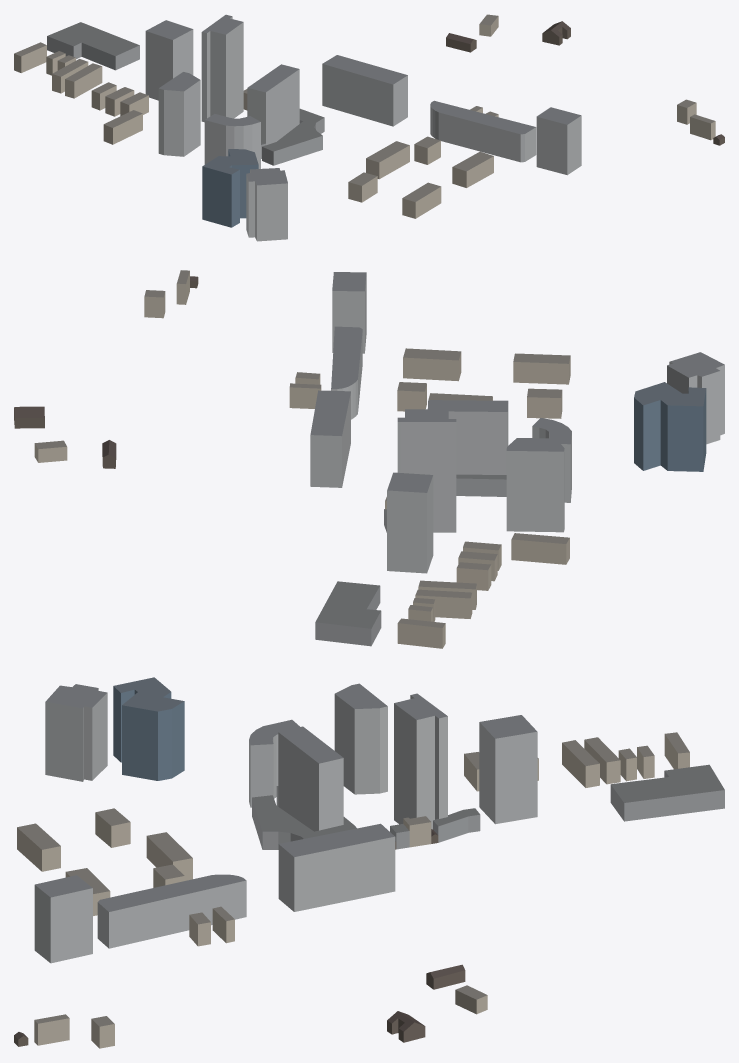
File: tile_5_6.glb
3 views of the same model, one above another, from view 1: azimuth 30°, elevation 25°; view 2: azimuth 150°, elevation 25°; view 3: azimuth 270°, elevation 25° (orthographic). The views are drawn at different scales.
Parts seen in each view (by area): view 1: HP-w505641125, HP-w505659387, HP-w640647899, HP-w505643417, HP-w293400218, HP-w293400220, HP-w505643416, HP-w447124044, HP-w505633437, HP-w505649213, HP-w293400221, HP-w505649243 (+16 smaller); view 2: HP-w505643417, HP-w293400218, HP-w640647899, HP-w447124044, HP-w293400220, HP-w505641125, HP-w505649213, HP-w505643416, HP-w505659387, HP-w505633437, HP-w1058569009, HP-w1058569008 (+13 smaller); view 3: HP-w505641125, HP-w505659387, HP-w505643417, HP-w640647899, HP-w447124044, HP-w293400220, HP-w505643416, HP-w293400218, HP-w505633437, HP-w505649213, HP-w505649243, HP-w293400221 (+16 smaller).
Part boxes in pixels (box(x1,y1,x2,y2)): HP-w505641125: box(322, 55, 407, 126); HP-w505659387: box(430, 100, 536, 162); HP-w640647899: box(201, 14, 243, 122); HP-w505643417: box(202, 149, 258, 227); HP-w293400218: box(158, 72, 200, 156); HP-w293400220: box(247, 64, 299, 145); HP-w505643416: box(246, 168, 287, 241); HP-w447124044: box(145, 20, 193, 100); HP-w505633437: box(536, 107, 581, 175); HP-w505649213: box(47, 22, 139, 70); HP-w293400221: box(204, 114, 260, 168); HP-w505649243: box(261, 108, 324, 165); HP-w505643417: box(634, 382, 706, 471); HP-w293400218: box(506, 438, 564, 532); HP-w640647899: box(397, 409, 456, 532); HP-w447124044: box(387, 472, 433, 573); HP-w293400220: box(427, 400, 508, 474); HP-w505641125: box(310, 390, 350, 487); HP-w505649213: box(315, 581, 381, 646); HP-w505643416: box(667, 352, 724, 444); HP-w505659387: box(331, 326, 362, 419); HP-w505633437: box(332, 272, 366, 353); HP-w1058569009: box(403, 348, 461, 381); HP-w1058569008: box(513, 353, 570, 384); HP-w505641125: box(278, 823, 395, 911); HP-w505659387: box(97, 874, 246, 948); HP-w505643417: box(113, 677, 184, 780); HP-w640647899: box(394, 693, 447, 829); HP-w447124044: box(479, 715, 537, 824); HP-w293400220: box(278, 726, 343, 831); HP-w505643416: box(45, 684, 107, 781); HP-w293400218: box(334, 683, 387, 794); HP-w505633437: box(34, 875, 92, 963); HP-w505649213: box(610, 764, 724, 821); HP-w505649243: box(252, 786, 356, 849); HP-w293400221: box(249, 719, 299, 807).
Bounding box in the file's own units: 530 × 96 × 528.
